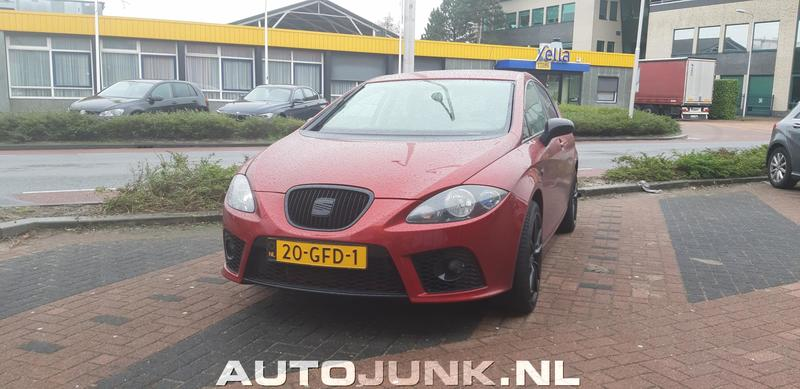kenteken: (265, 239, 368, 269)
